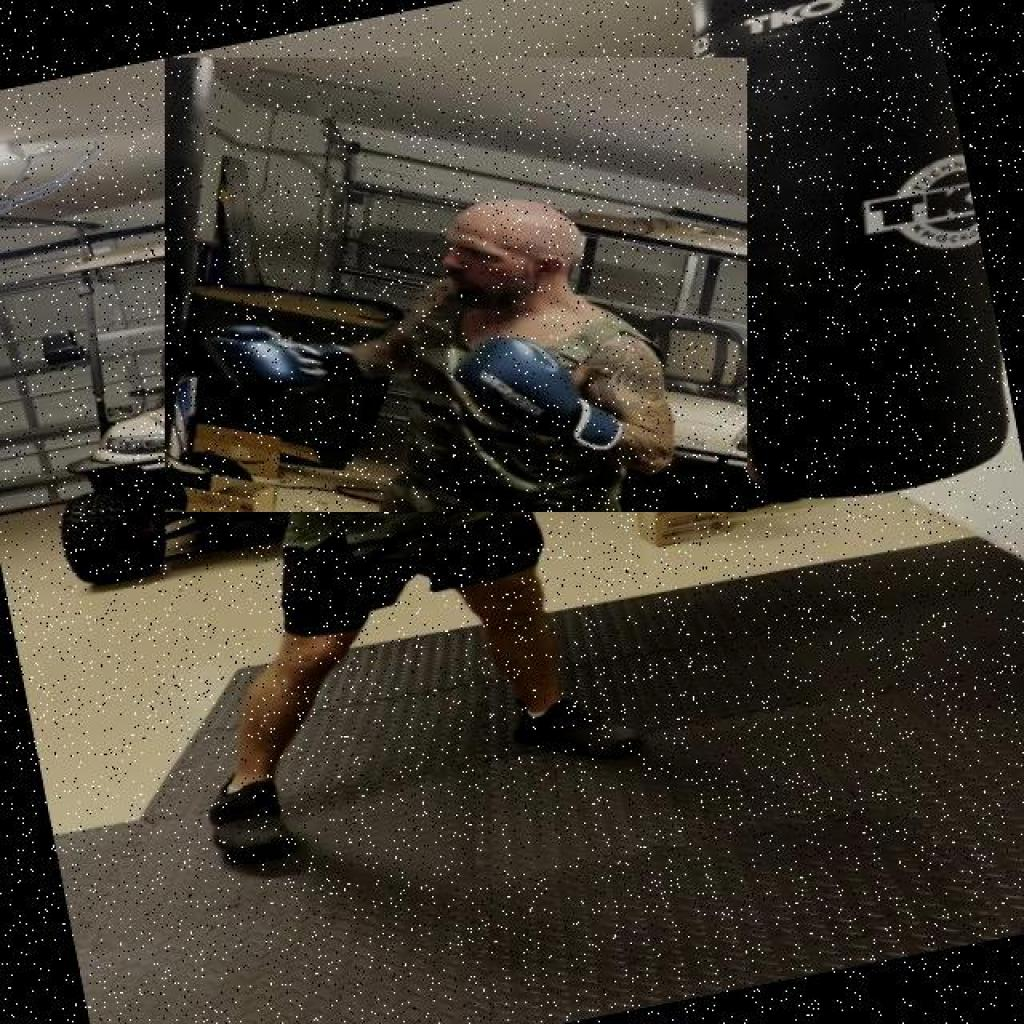bag: (654, 0, 1024, 515)
hook: (165, 58, 747, 511)
